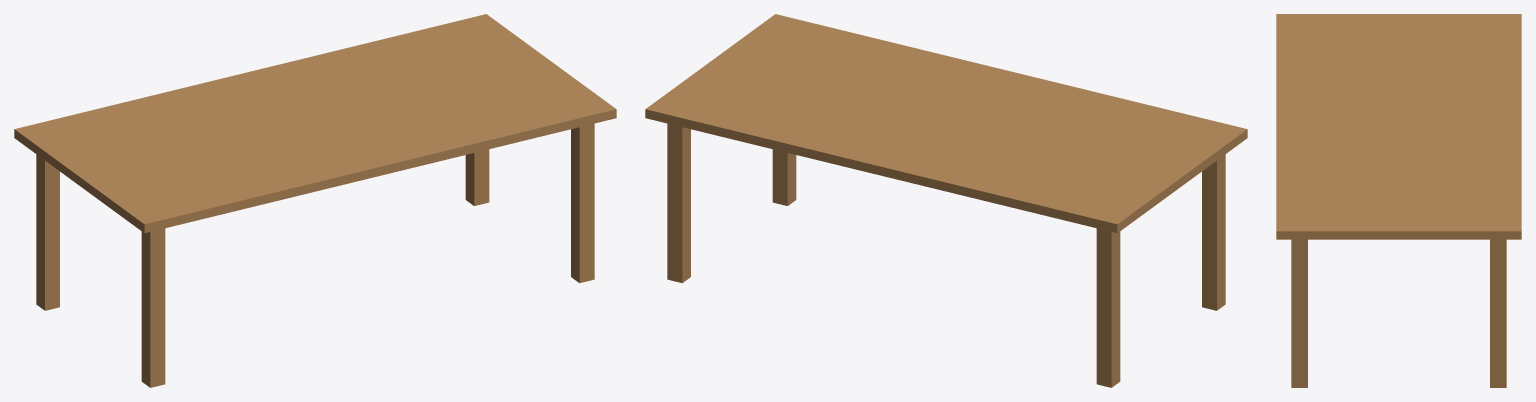
3 renders of one model, left to right at view 1: azimuth 30°, elevation 25°; view 2: azimuth 150°, elevation 25°; view 3: azimuth 270°, elevation 25°, orthographic. The views are drawn at different scales.
Visible parts, largest first — view 1: mesa_conference; view 2: mesa_conference; view 3: mesa_conference.
Part boxes in pixels (left/top/right/bottom): mesa_conference: left=14, top=14, right=616, bottom=387; mesa_conference: left=645, top=14, right=1247, bottom=387; mesa_conference: left=1276, top=14, right=1521, bottom=387.
Size of the model in its own units: 2.2 by 1.05 by 0.77.
